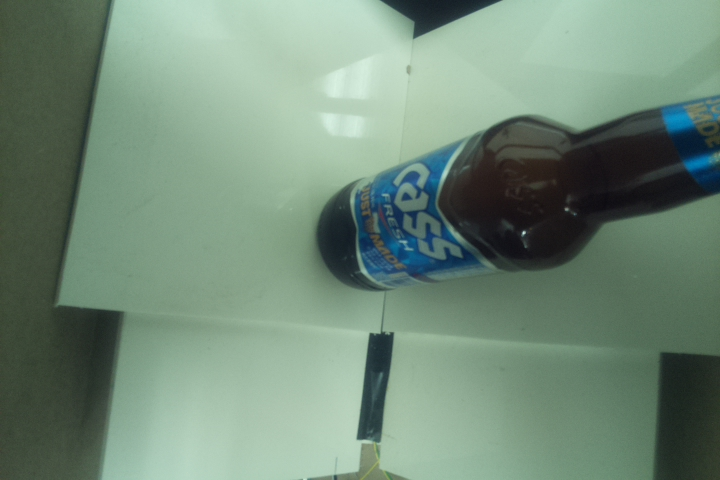makju: (315, 91, 720, 294)
